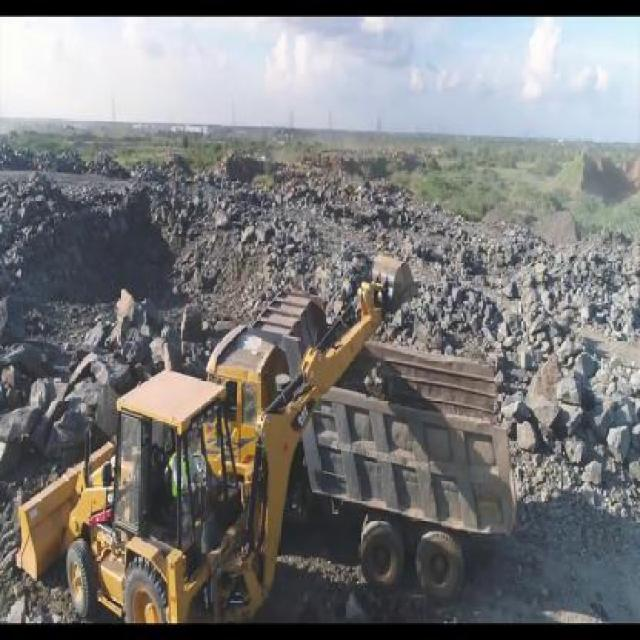dump_truck: (201, 284, 516, 604)
